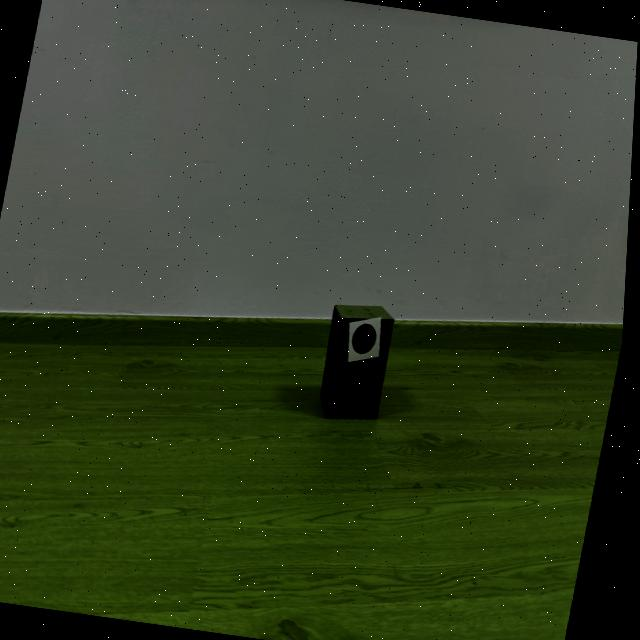CIRCLE: (356, 324, 380, 354)
